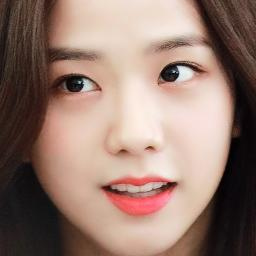face: (51, 0, 227, 252)
